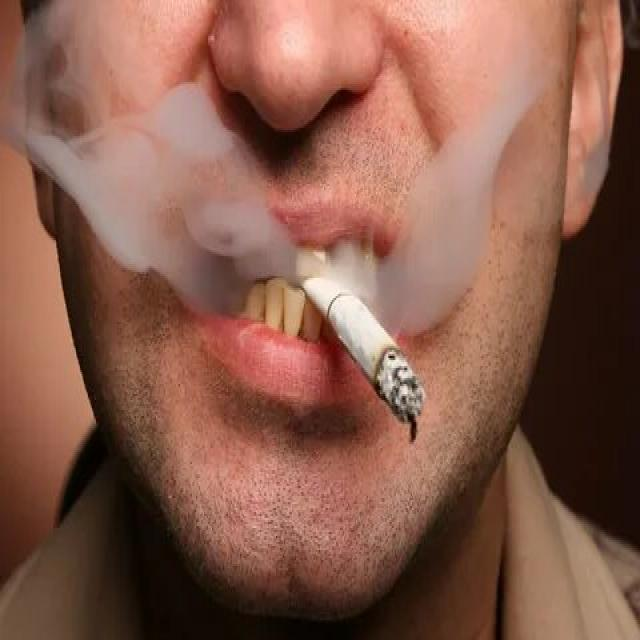cigarette: (303, 264, 427, 448)
